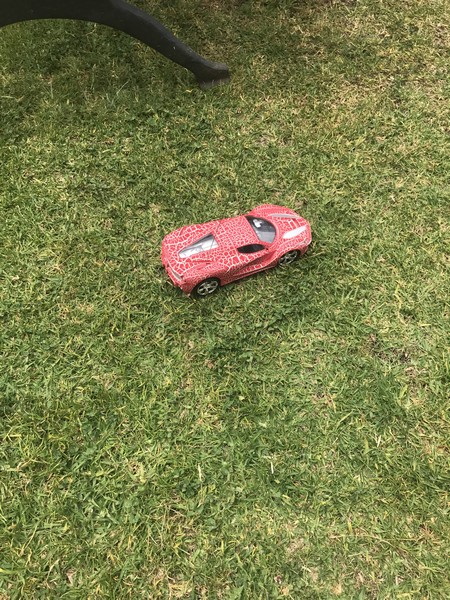RC: (154, 202, 313, 297)
